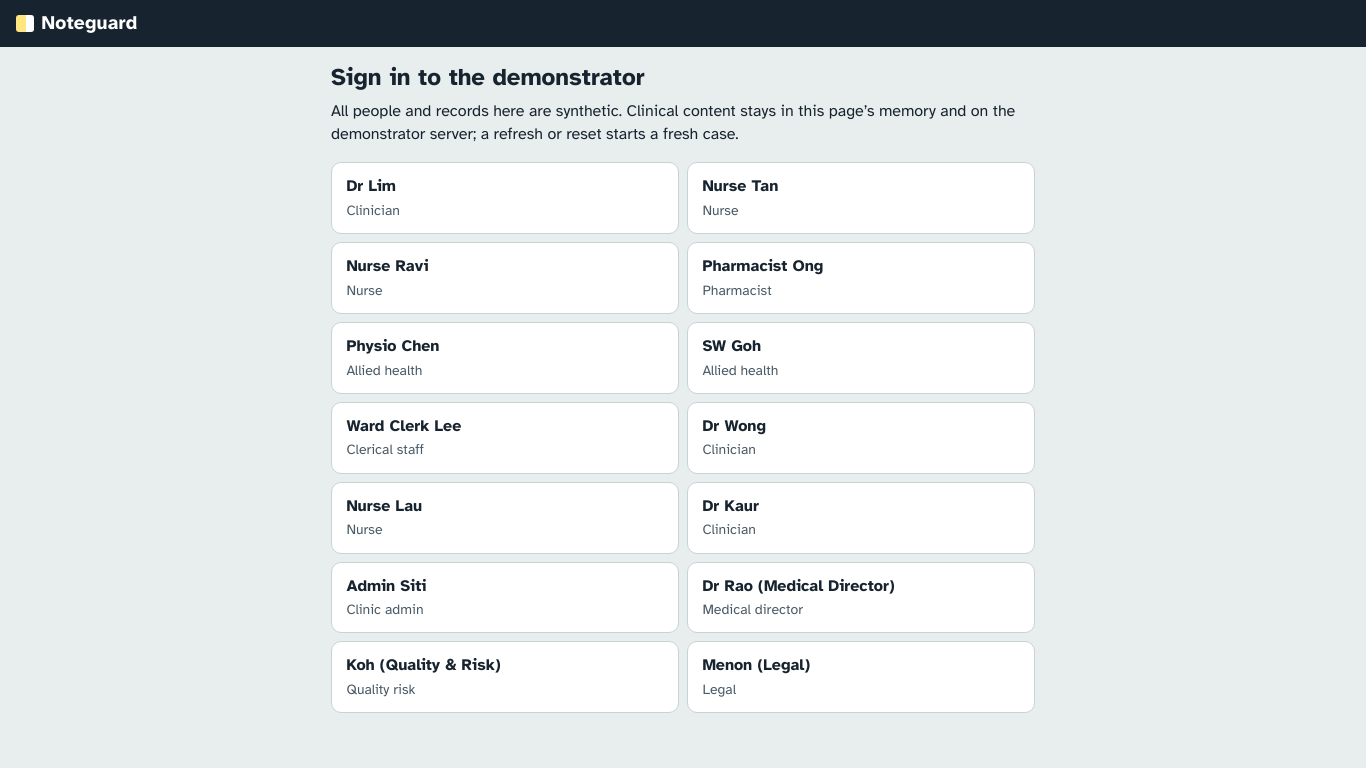
Test: a governance role lands on the aggregate page: counts as served, "<5" kept, no totals, no identifiers
The image size is (1366, 768).
What coordinates should you click on to do the following:
click the button "Koh (Quality & Risk) Quality risk"
I would click on:
 (424, 665)
Its box is [331,642,679,713].
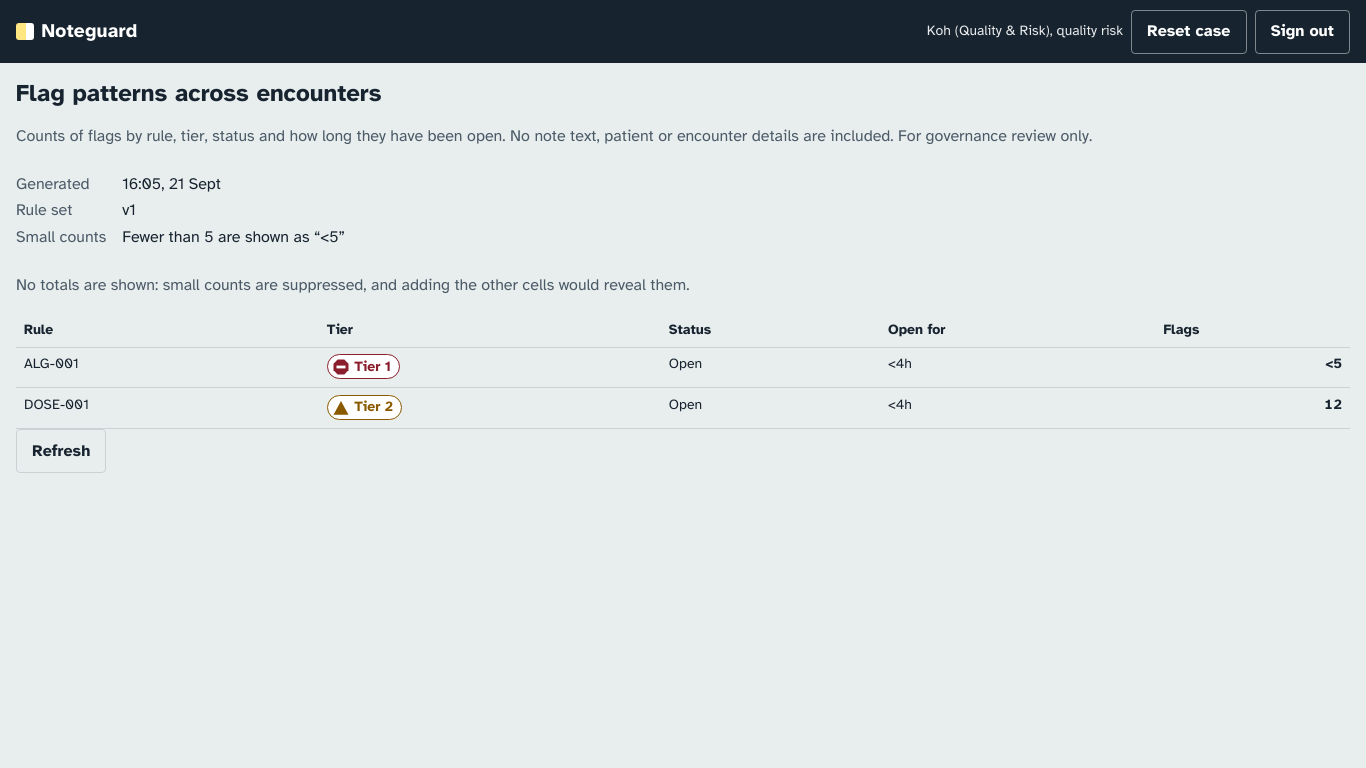
Result: the heading "Flag patterns across encounters" is shown at [16,78,382,108]
Result: the text "Fewer than 5 are shown as “<5”" is shown at [122,226,345,246]
